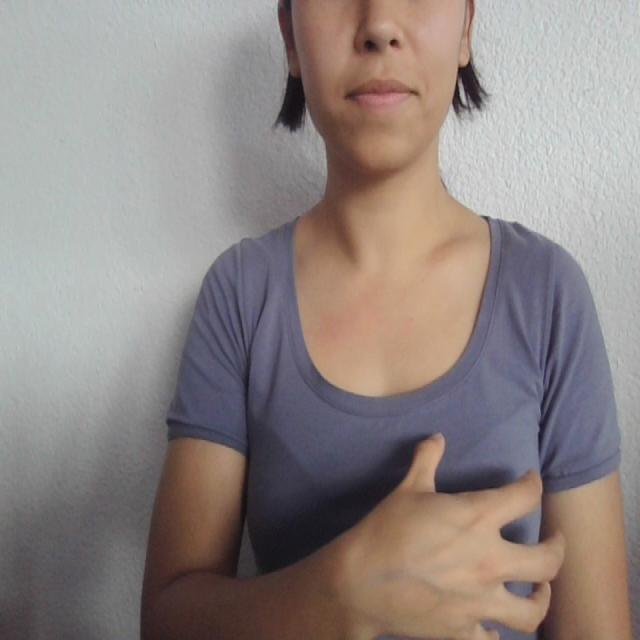Anne: (243, 417, 586, 640)
